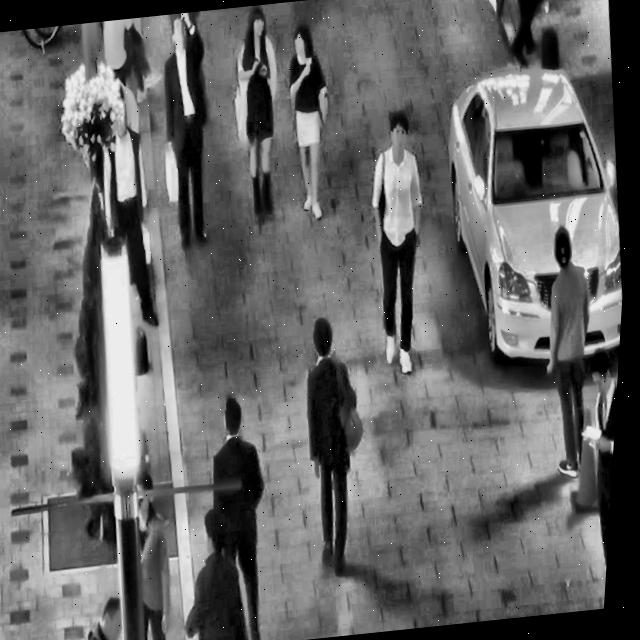light_vehicle: (423, 41, 638, 381)
